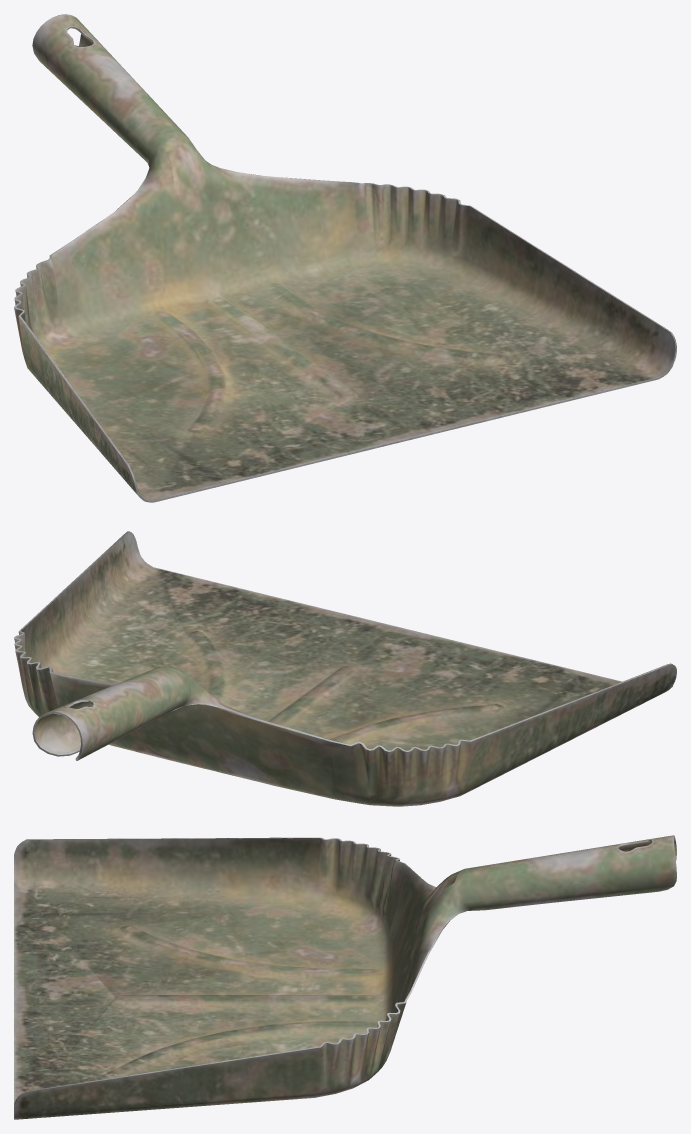
File: dustpan.glb
3 views of the same model, one above another, from view 1: azimuth 30°, elevation 25°; view 2: azimuth 150°, elevation 25°; view 3: azimuth 270°, elevation 25° (orthographic). The views are drawn at different scales.
Parts seen in each view (by area): view 1: dustpan; view 2: dustpan; view 3: dustpan.
Boxes of the visible parts, box(x1,y1,x2,y2) form: dustpan: box(14, 14, 676, 502); dustpan: box(14, 531, 676, 806); dustpan: box(14, 835, 676, 1119).
Bounding box in the file's own units: 0.3321 × 0.1003 × 0.368.
Materials: 1 (1 with a texture image).
